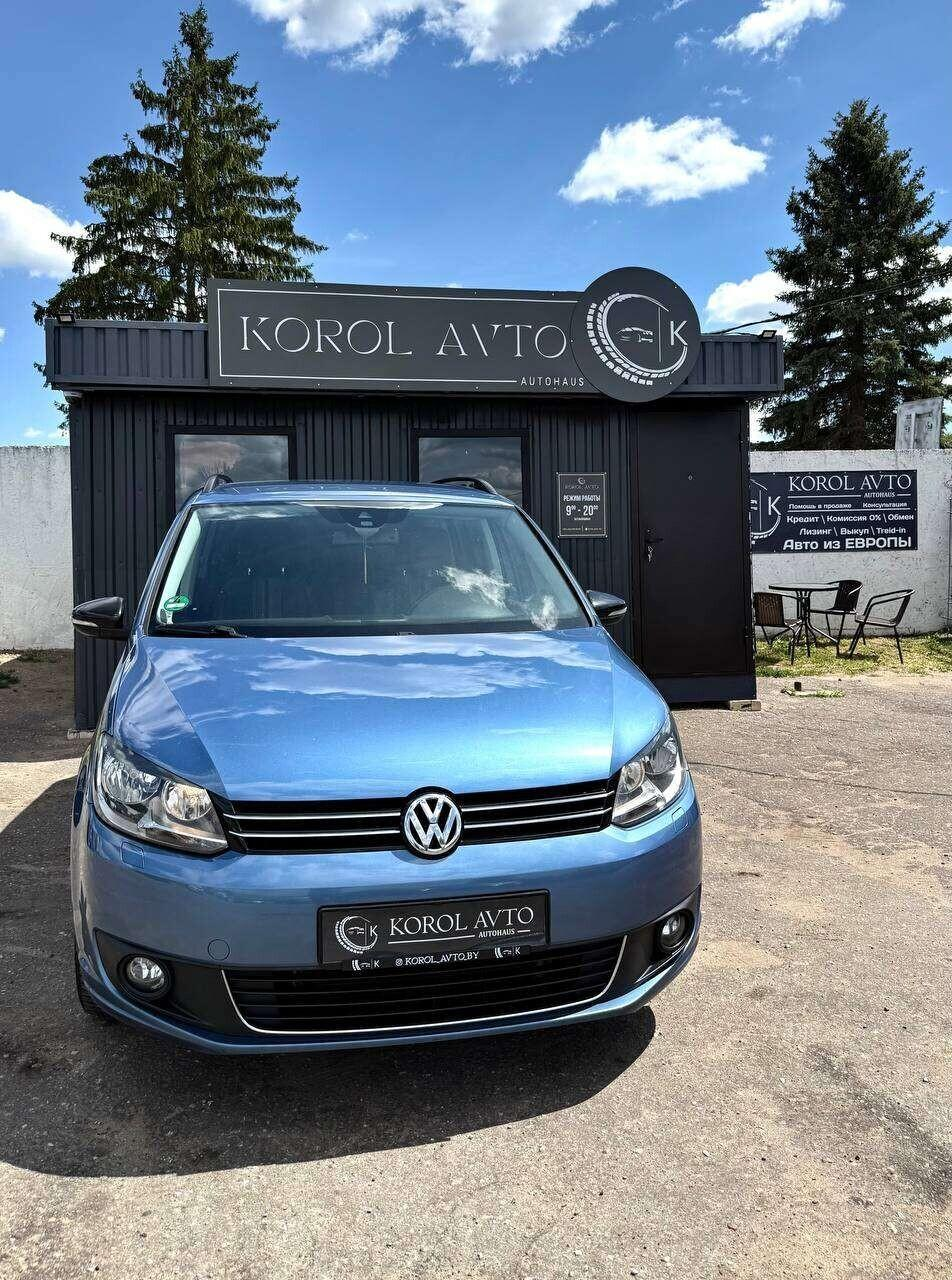Touran_2010-2015: (63, 477, 713, 1073)
